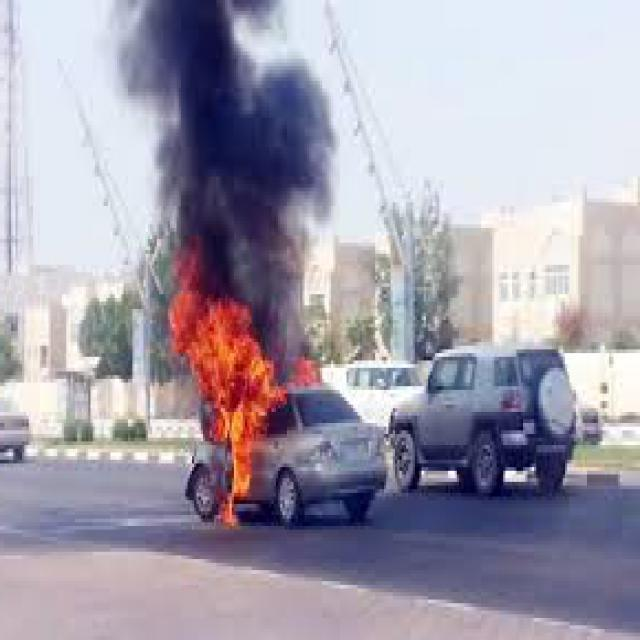Fire: (168, 252, 285, 530)
Smoke: (128, 0, 346, 283)
